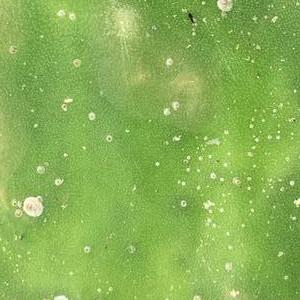Femea: (20, 199, 38, 212), (35, 166, 44, 171), (105, 134, 111, 141), (71, 59, 78, 65), (53, 178, 61, 183), (83, 245, 89, 251), (166, 58, 172, 64), (87, 113, 94, 118), (210, 172, 215, 179), (180, 200, 185, 206), (60, 104, 65, 109)
Linfa: (251, 130, 282, 143), (259, 175, 274, 192), (252, 106, 268, 121), (209, 196, 221, 209), (161, 108, 170, 115), (170, 101, 179, 108), (246, 175, 253, 181), (226, 244, 233, 249), (289, 179, 294, 185), (185, 153, 190, 159), (180, 180, 185, 186), (195, 184, 200, 190), (197, 155, 202, 160), (195, 167, 200, 172), (224, 231, 230, 235), (247, 185, 251, 190), (185, 167, 190, 171), (219, 177, 224, 181), (250, 208, 254, 213)
Macho: (62, 98, 73, 103)
